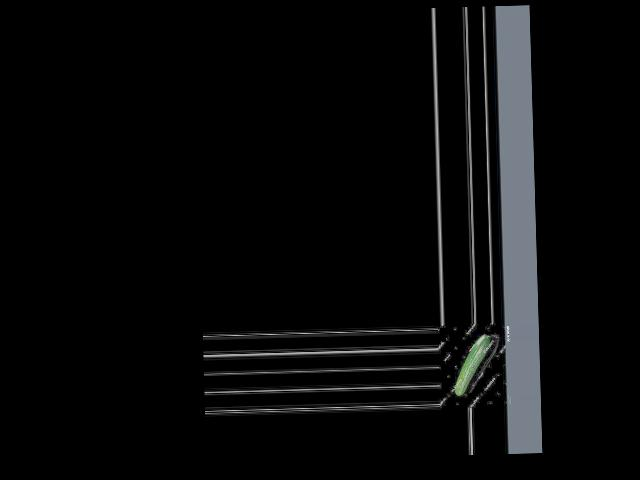cucumber: (453, 334, 493, 396)
